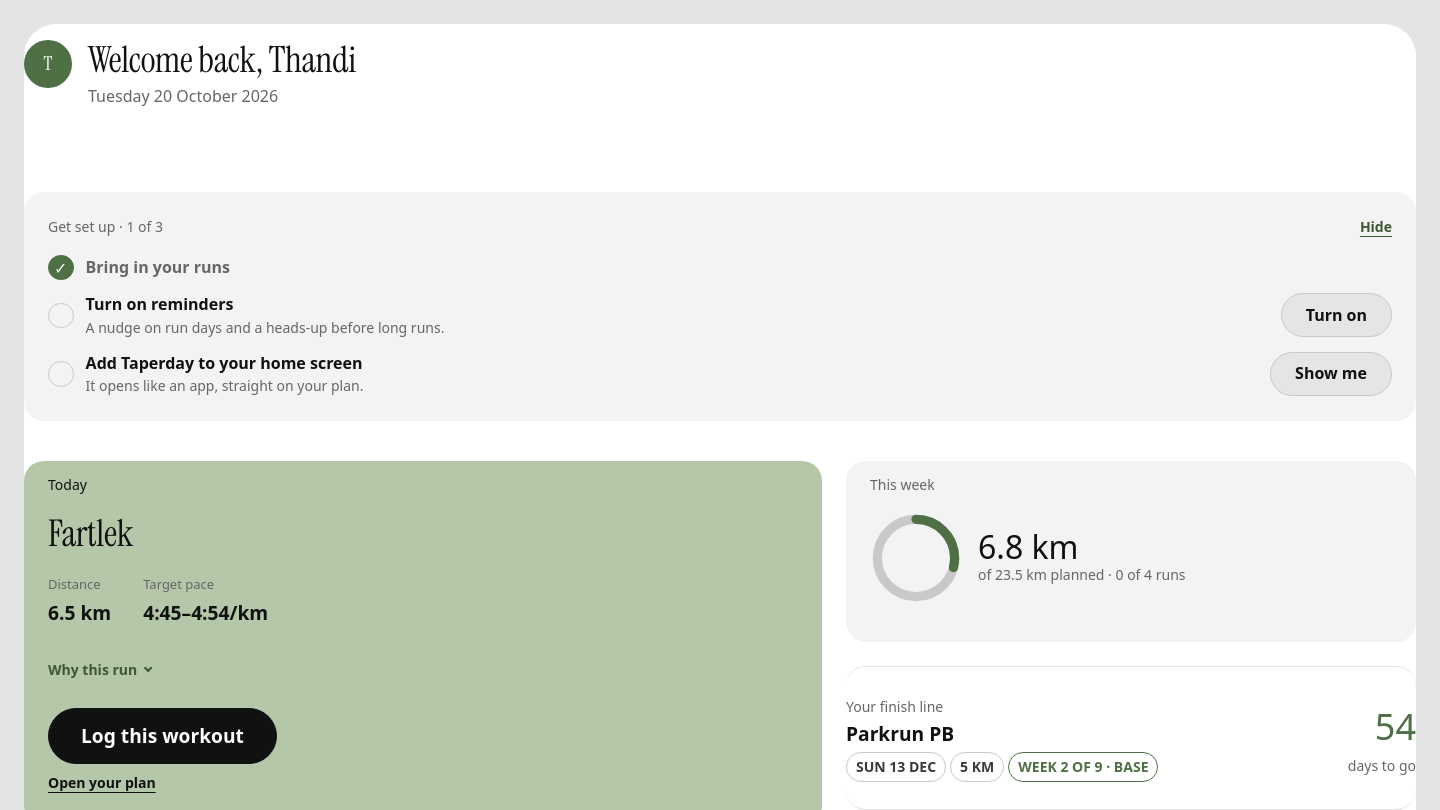
Home › offers quick completion on today’s session and can use a linked Strava run
Click the button "Log this workout": click(162, 736) [48,708,277,764]
(page scrolled)
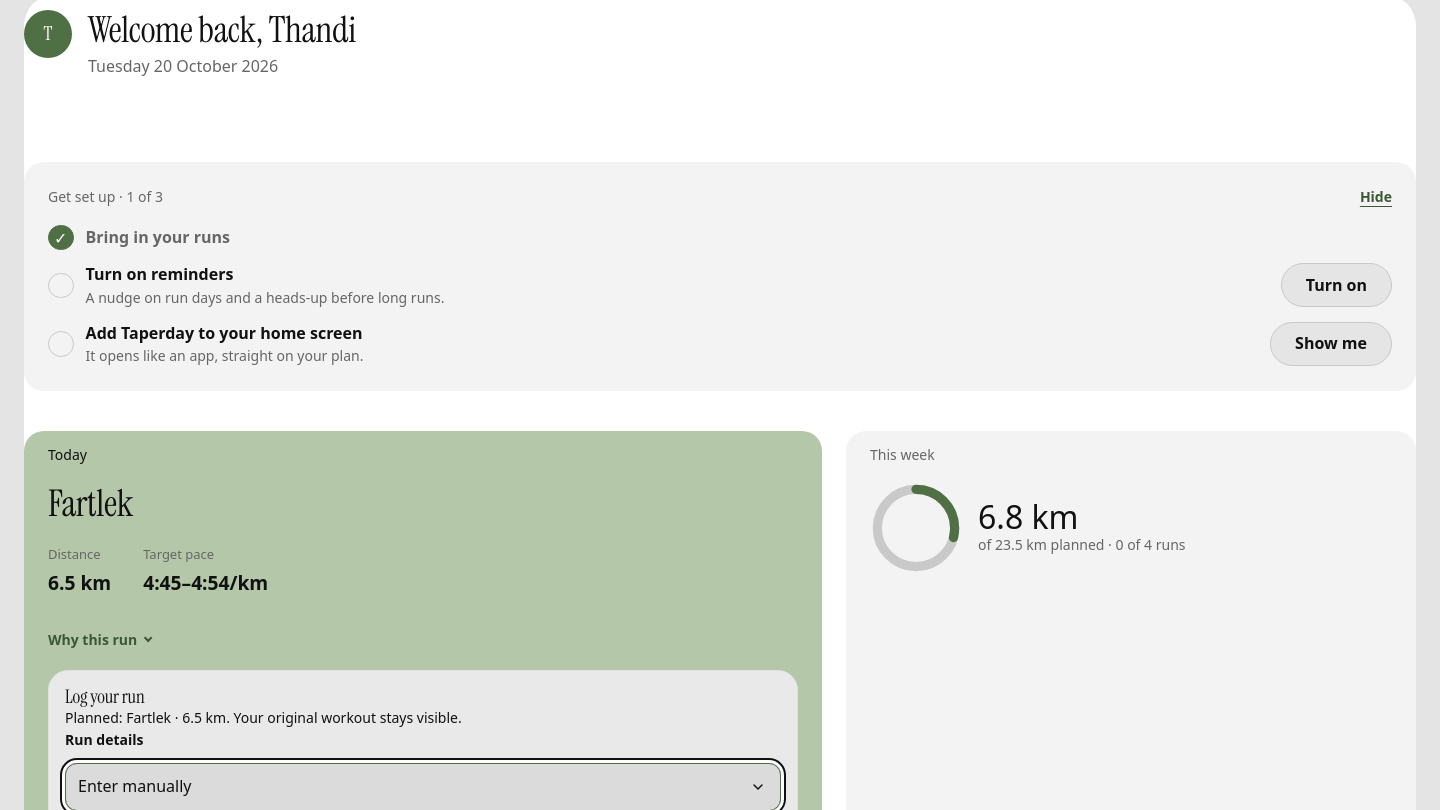
Select "Strava · 6.8 km · 41 min" in the dropdown labelled "Run details": (423, 787) [65,763,781,809]
(page scrolled)
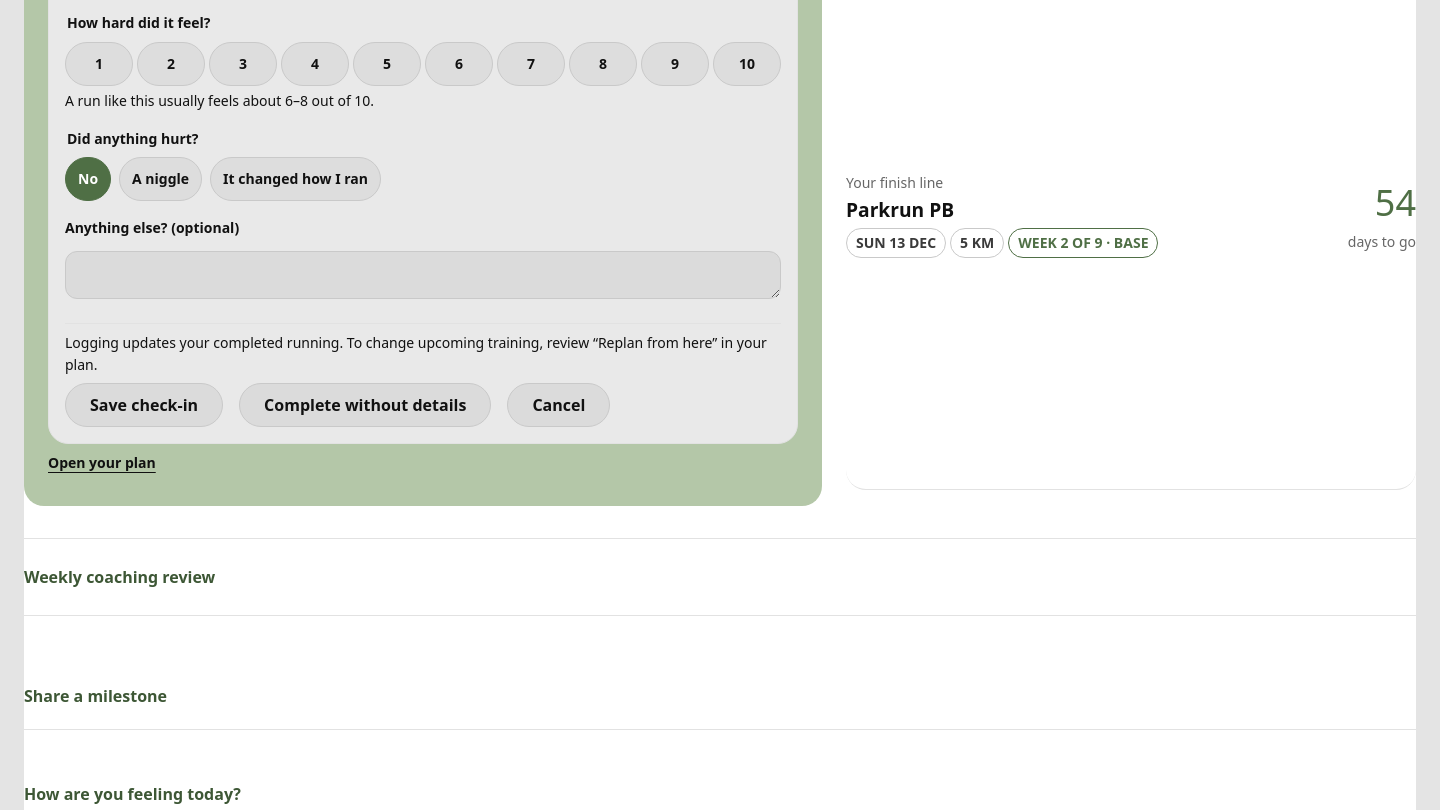
Click the button "Save check-in": click(144, 405) [65,383,223,427]
(page scrolled)
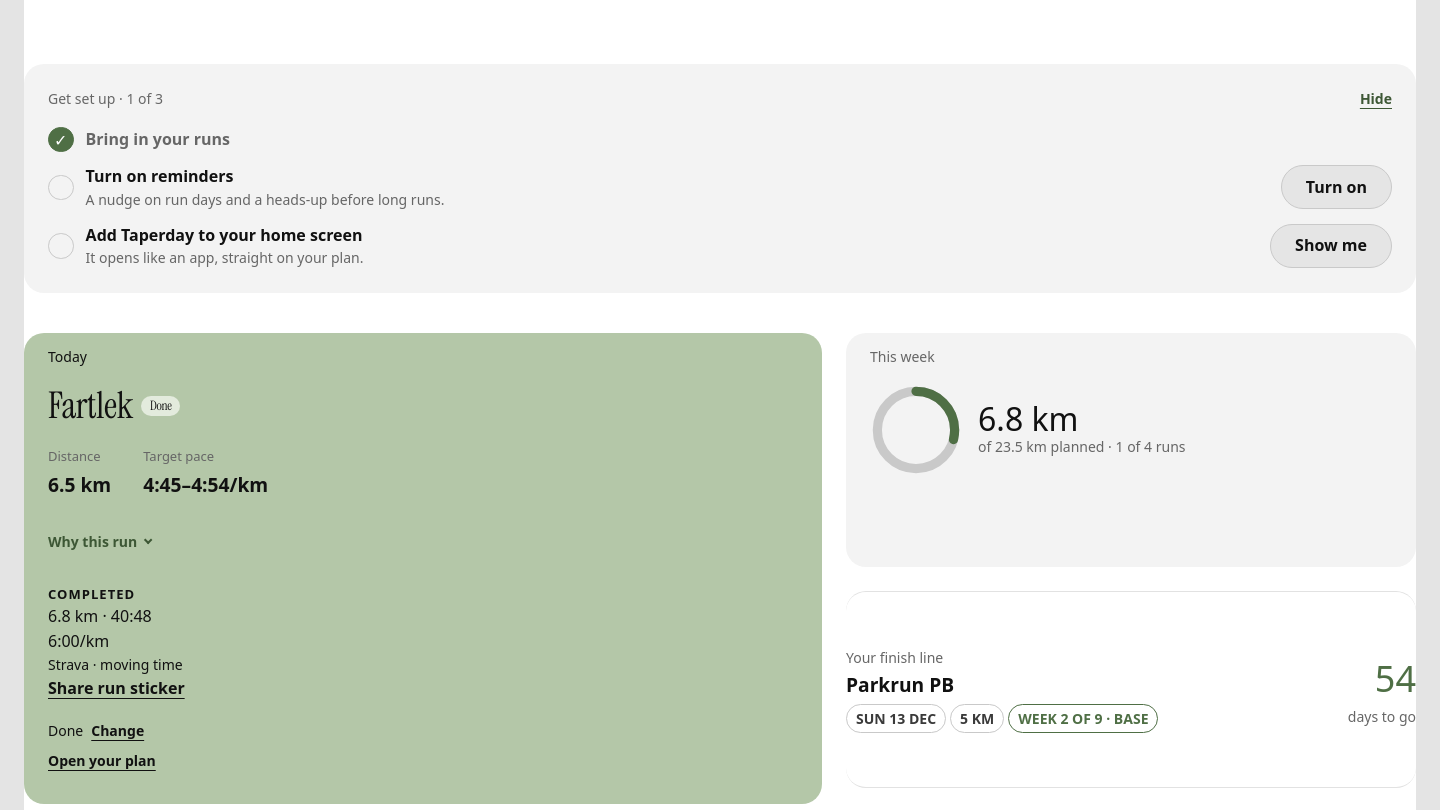
Expected: the button with aria-label "Change how Fartlek went" is shown, [91,720,144,742]
Expected: the text with class "home-done-chip" reads "Done", [150,397,171,414]
